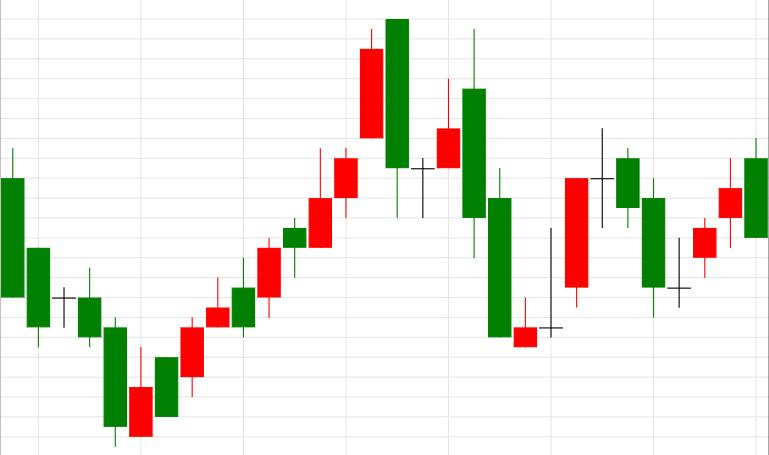bearish_engulfing_fall: (180, 19, 409, 398)
